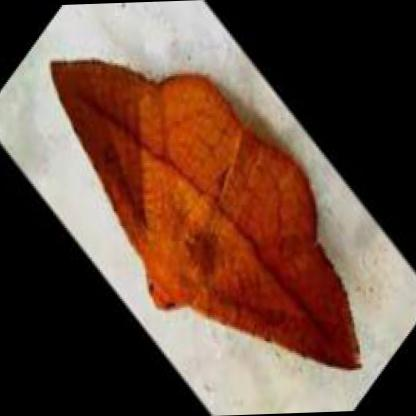Leaf Webber: (48, 61, 366, 373)
